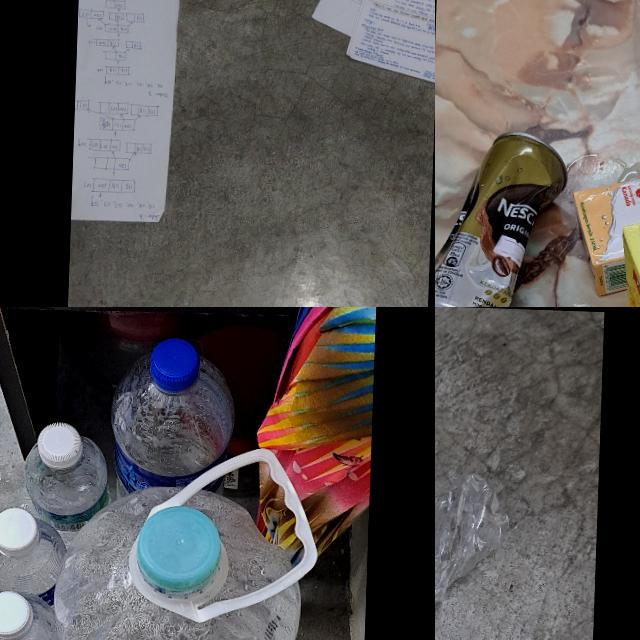caixinha: (575, 138, 640, 302)
garrafa plástica: (46, 481, 305, 640), (108, 351, 236, 502), (435, 463, 510, 640), (20, 434, 110, 550), (0, 515, 68, 610), (0, 590, 78, 640)
lata: (435, 122, 571, 307)
papel: (70, 0, 179, 228), (313, 0, 435, 86)
tampa plástica: (134, 504, 220, 592), (148, 336, 200, 391), (36, 422, 83, 469), (0, 504, 39, 557), (0, 591, 34, 640)
